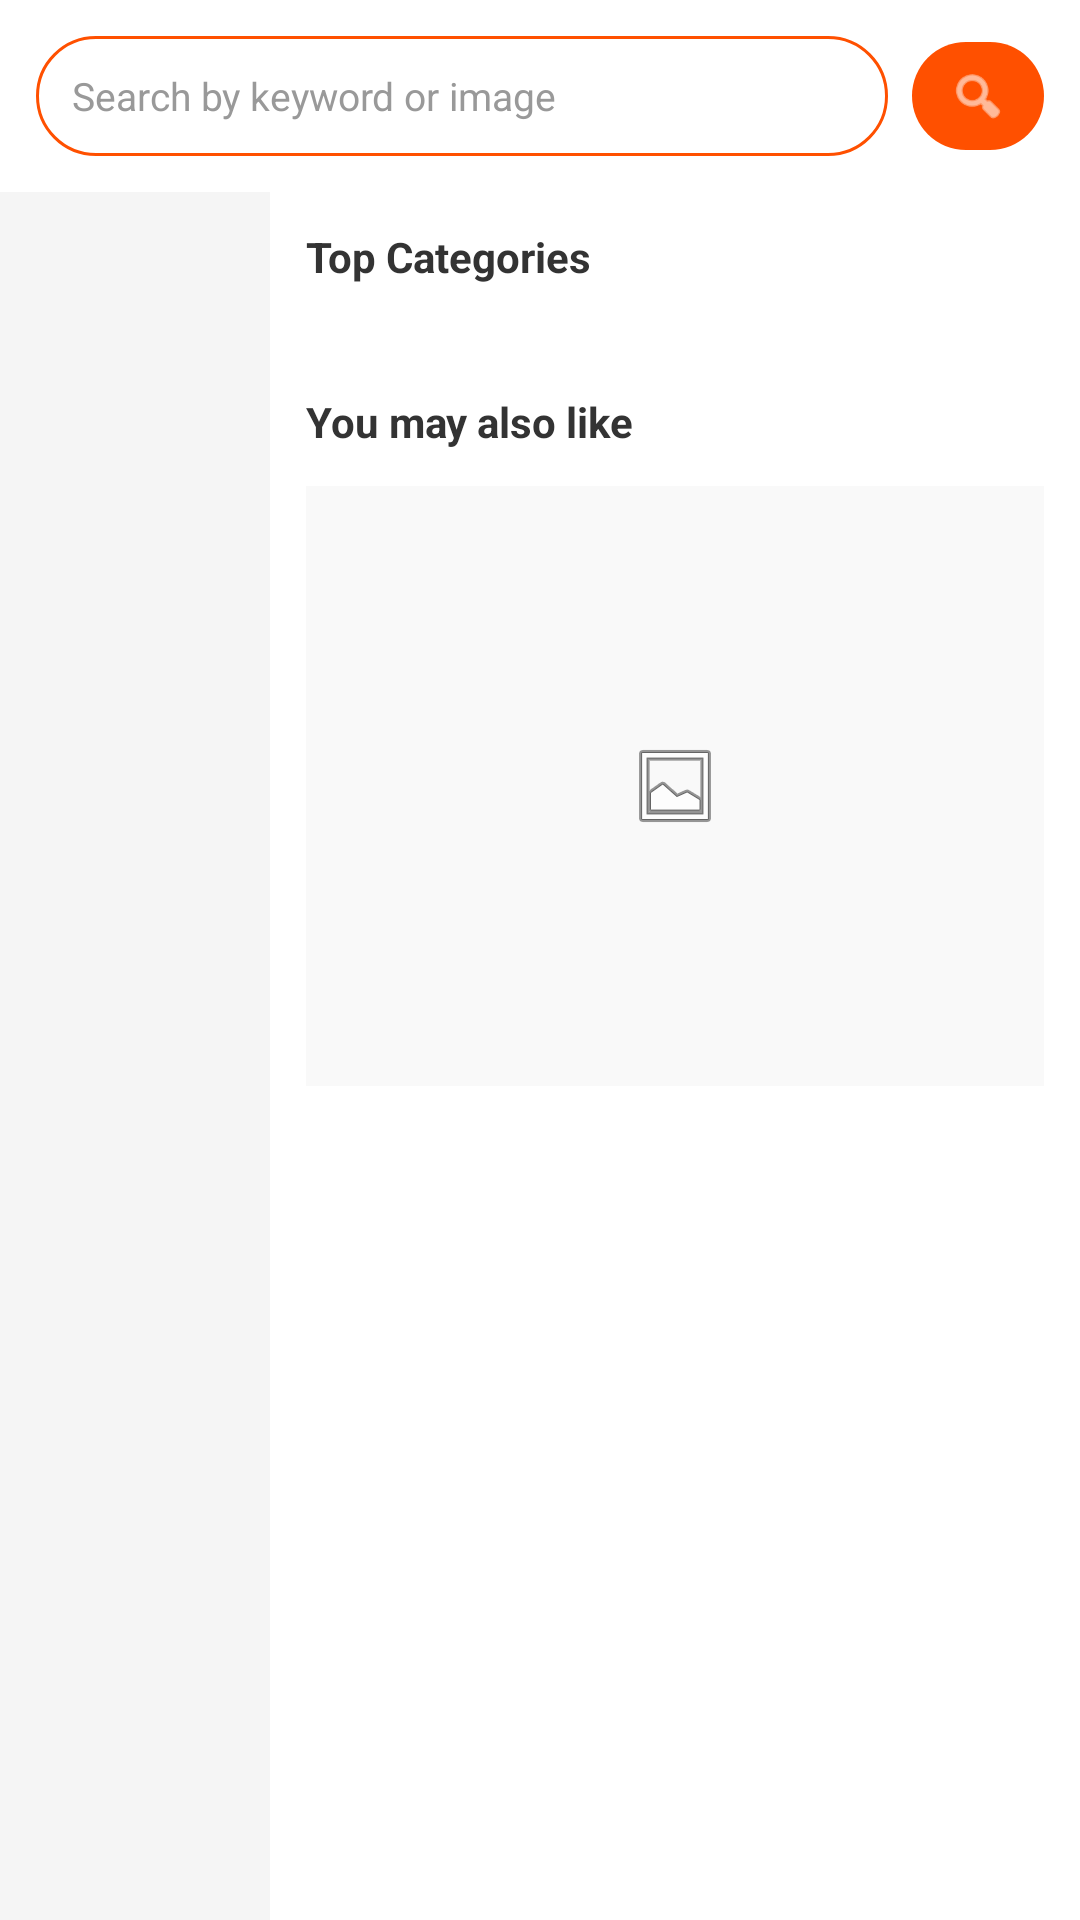

Named icons in this screenshot (1080px×1920px) and their centers, [x,y]:
gallery: [675,786]
